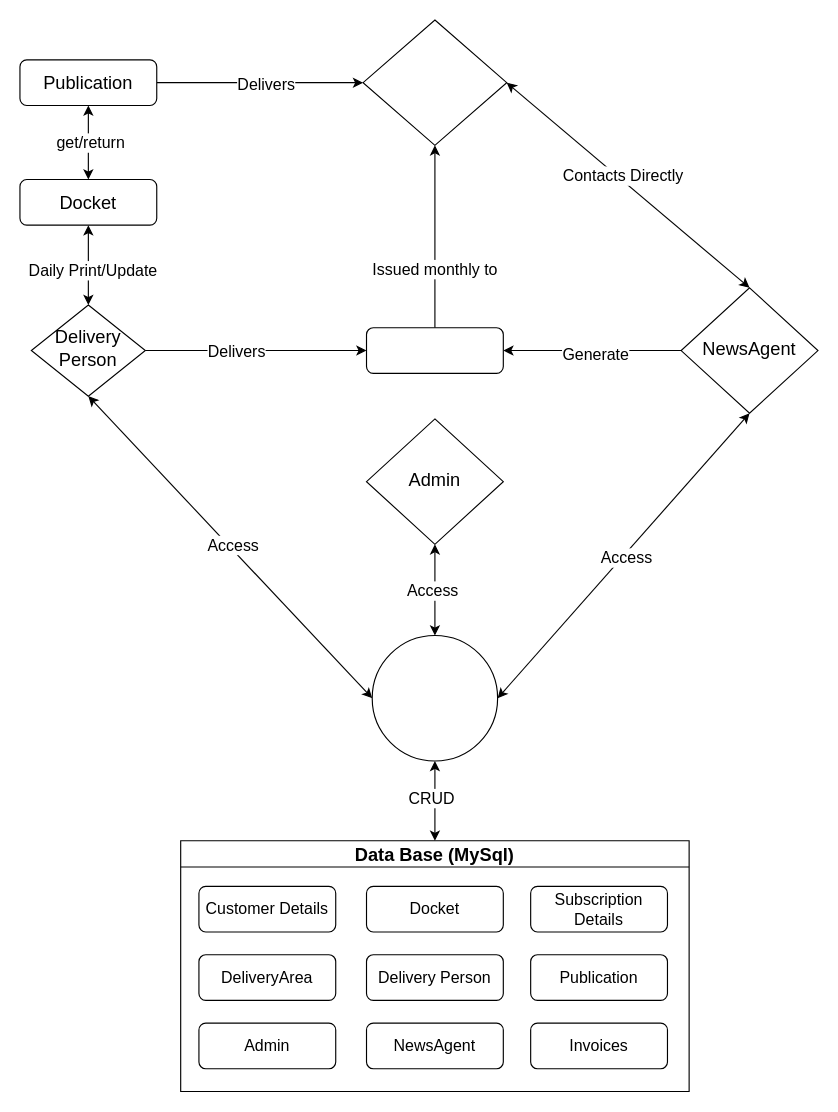
This 838x1112 diagram has some shape labels left out. The centre of each missing label's shape, as x and y in pixels:
Customer: pixel 434 82
Invoice: pixel 434 350
SOFTWARE ( JAVA ): pixel 434 697
